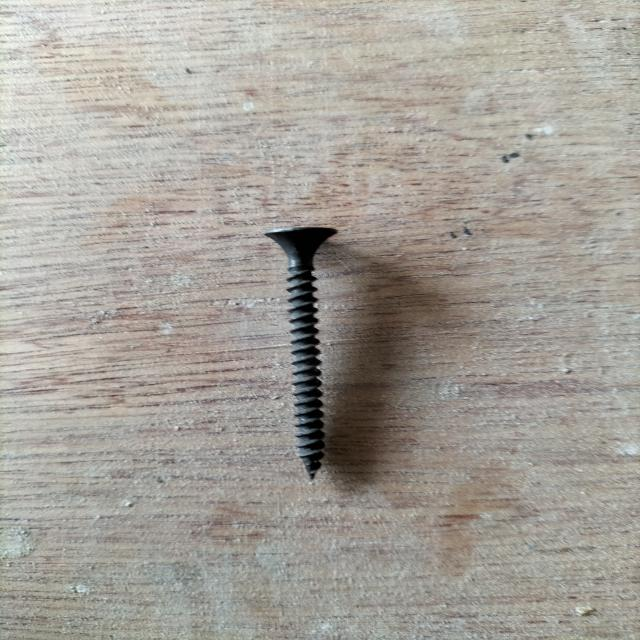screw: (264, 227, 338, 479)
